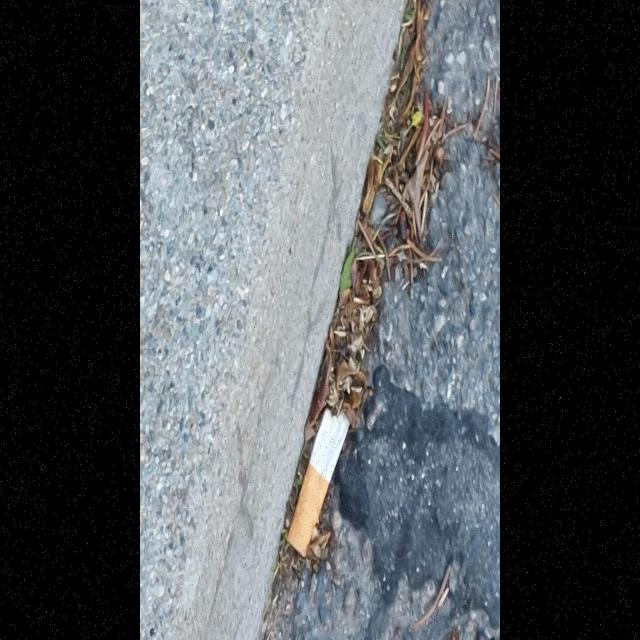other waste: (285, 407, 351, 560)
